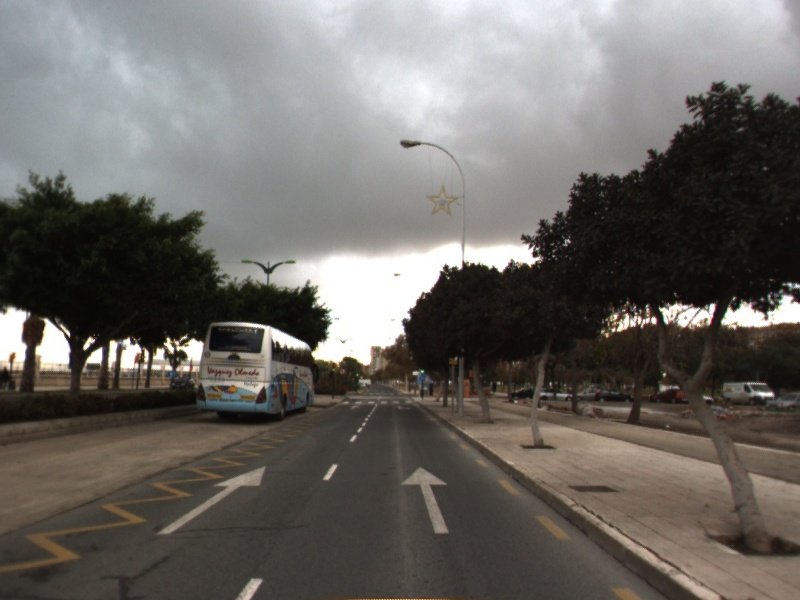STRAIGHT: (154, 463, 268, 536), (398, 463, 454, 535)
